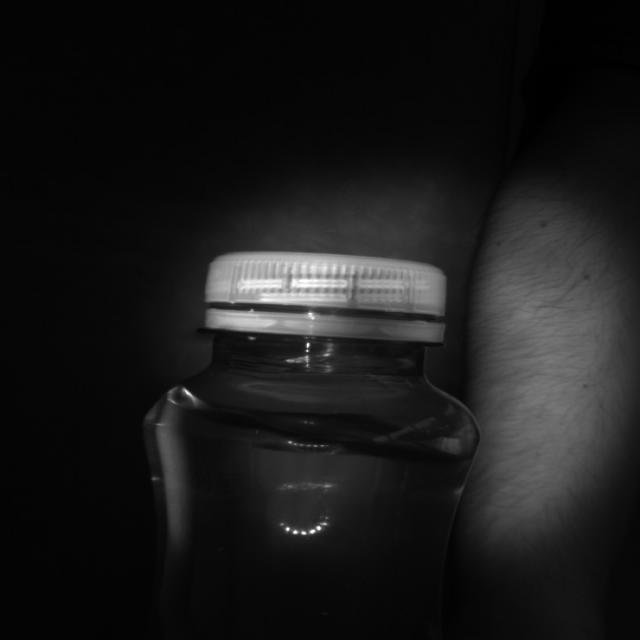Not Good: (206, 252, 446, 341)
